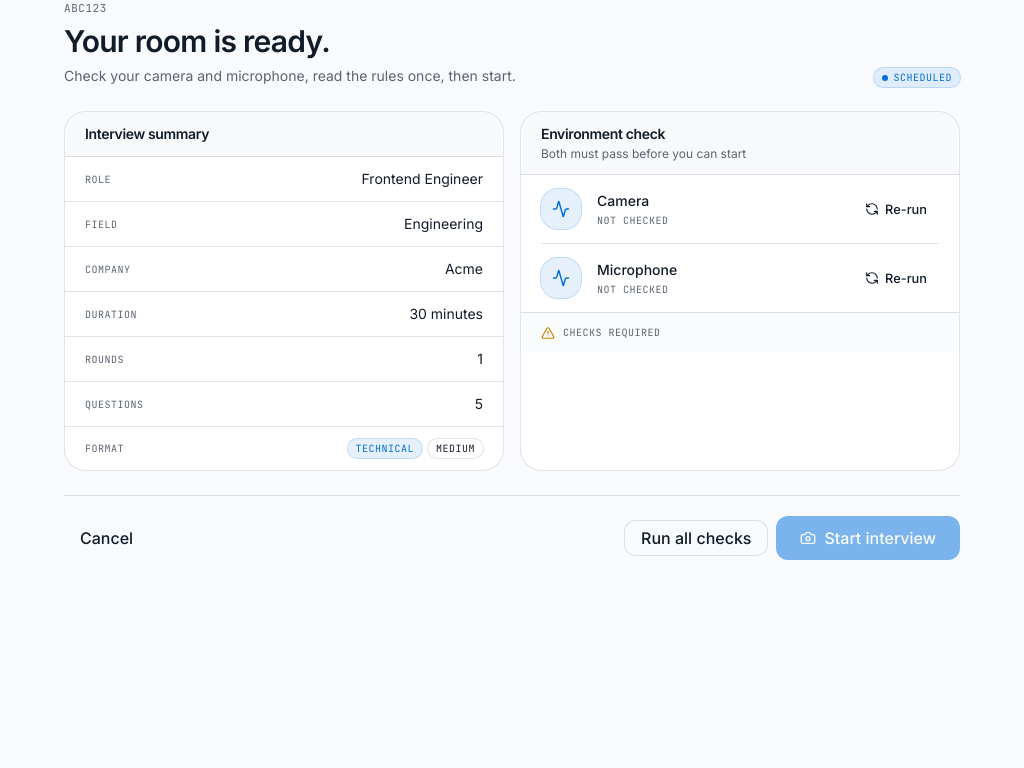
Test: Interview Lobby › opens the rules dialog and only enters the room after the countdown
Step 1. Click the button "Run all checks" → (696,538), box [624,520,768,556]
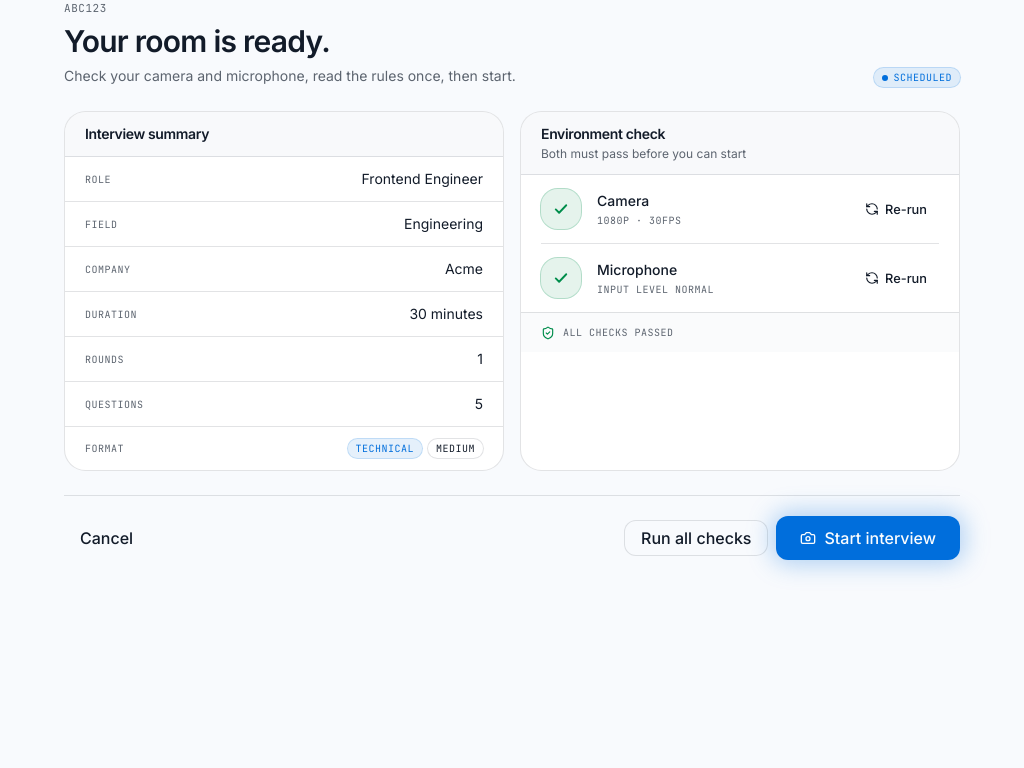
expect the button "Start interview" is enabled: met
Step 2. Click the button "Start interview" → (868,538), box [776,516,960,560]
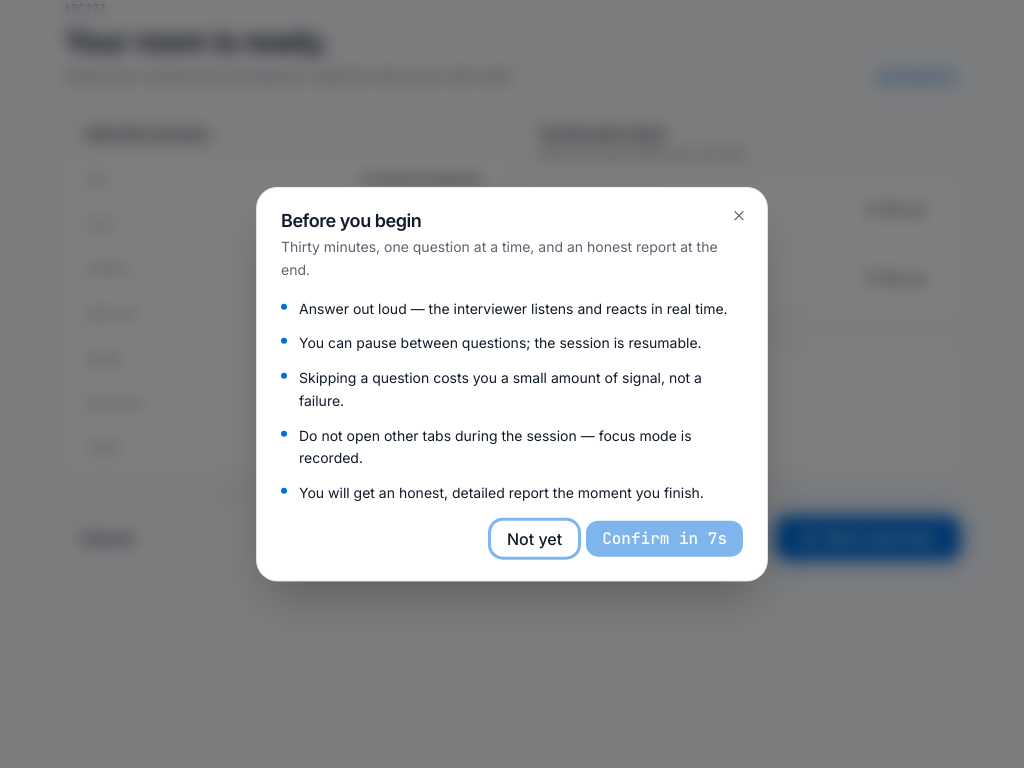
expect the heading "Before you begin" is shown: met, box [281,210,421,231]
expect the button "Confirm in 7s" is disabled: met, box [586,520,743,556]
Step 3. Click the button "Not yet" → (534,538), box [491,520,578,556]
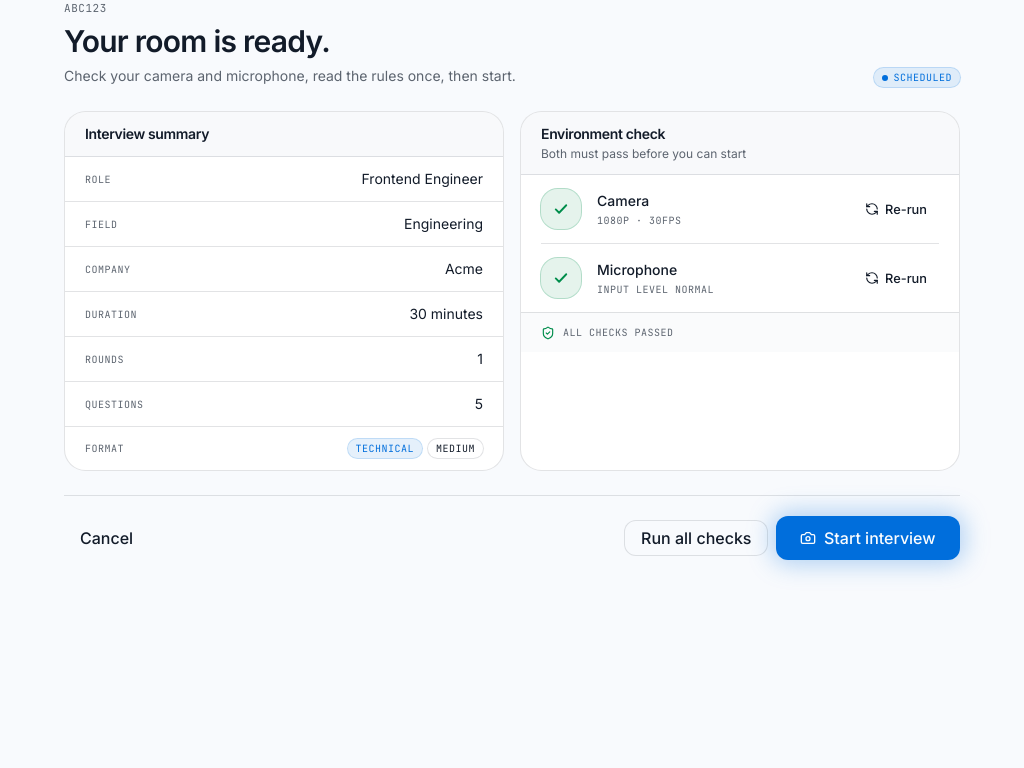
expect the heading "Before you begin" is gone: met
